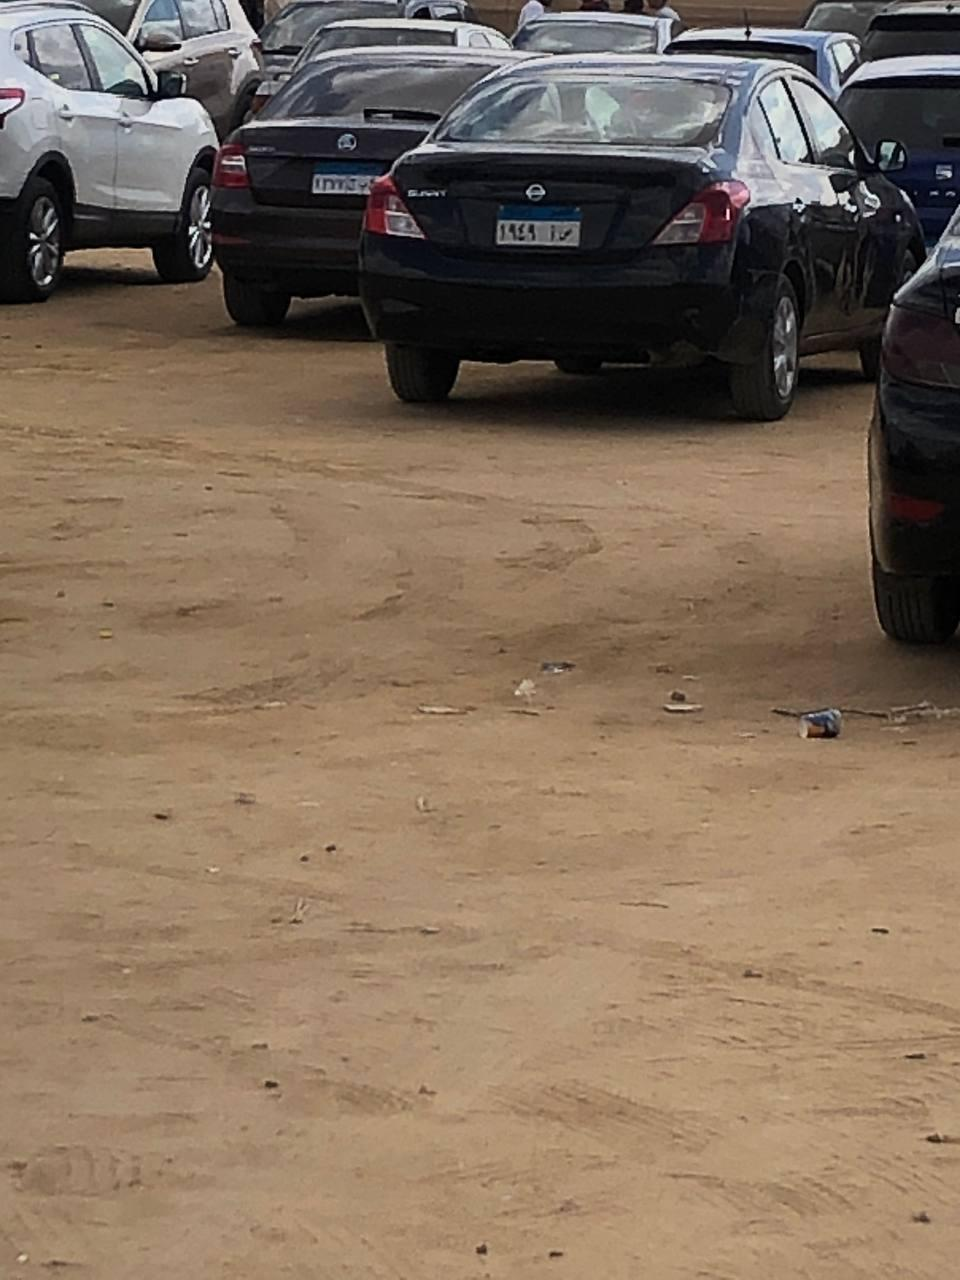License Plate: (492, 213, 583, 249)
